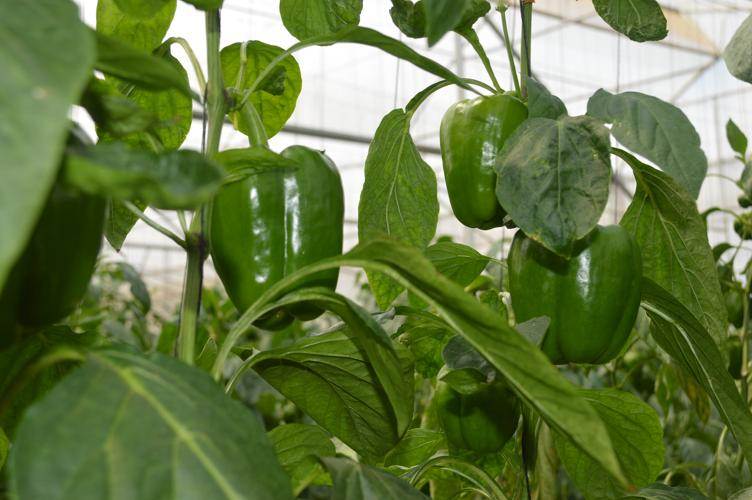BellPepper: (214, 145, 349, 322), (500, 225, 642, 365), (13, 127, 110, 322), (438, 94, 529, 226), (435, 368, 520, 455)
